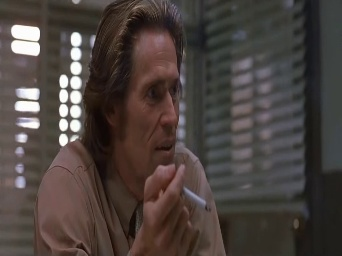smoke: (174, 185, 209, 209)
